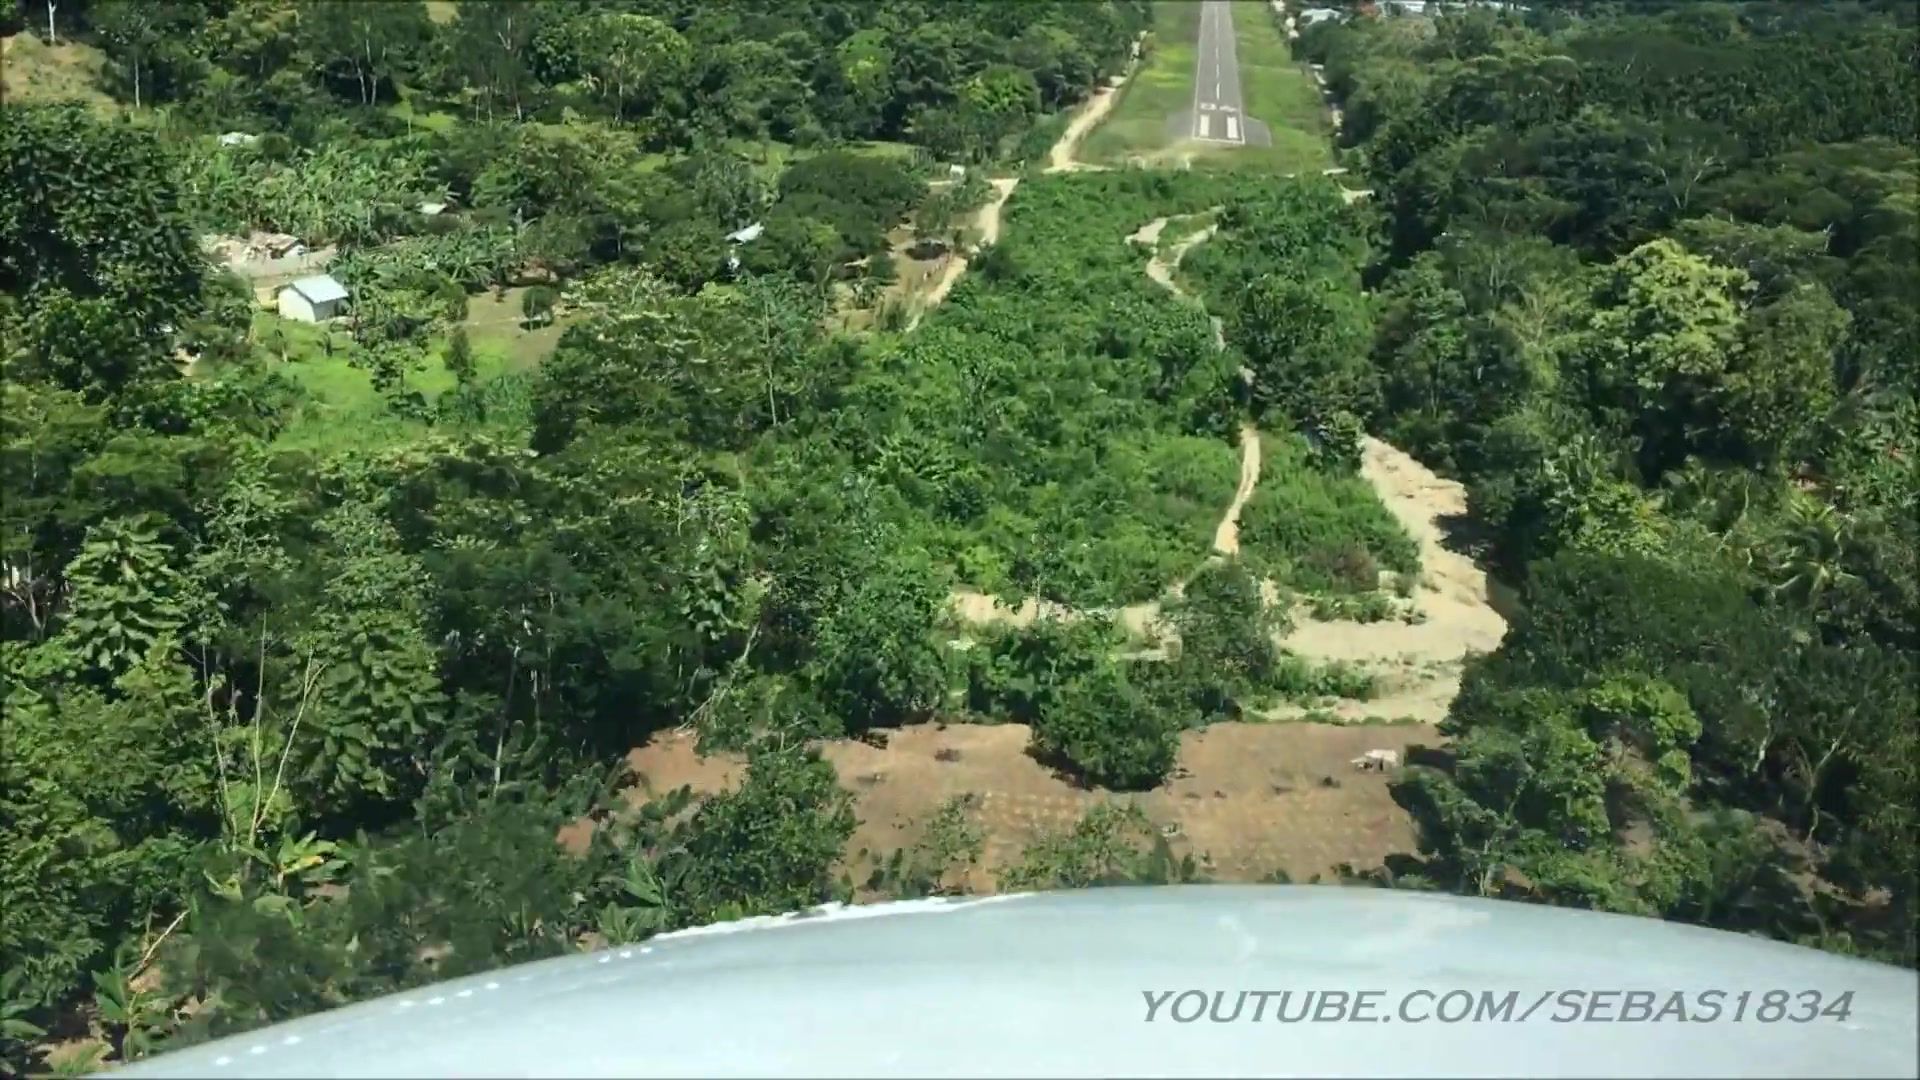entrance: (1197, 115, 1238, 138)
runway: (1192, 1, 1247, 146)
